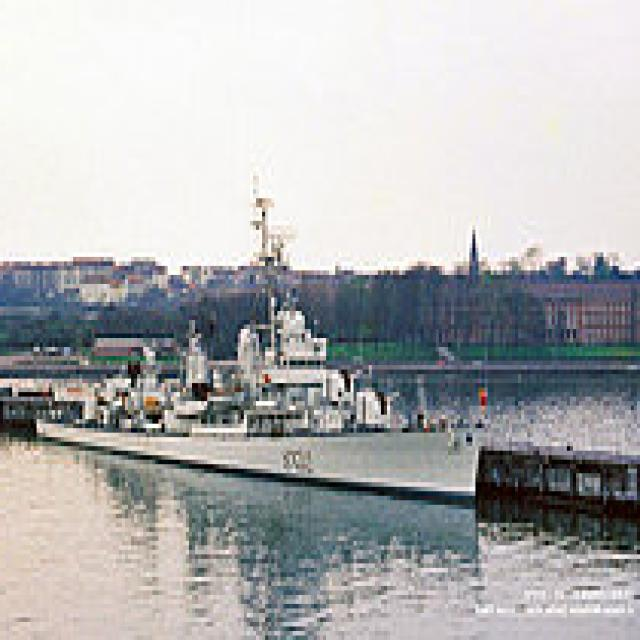Warship: (39, 180, 500, 500)
